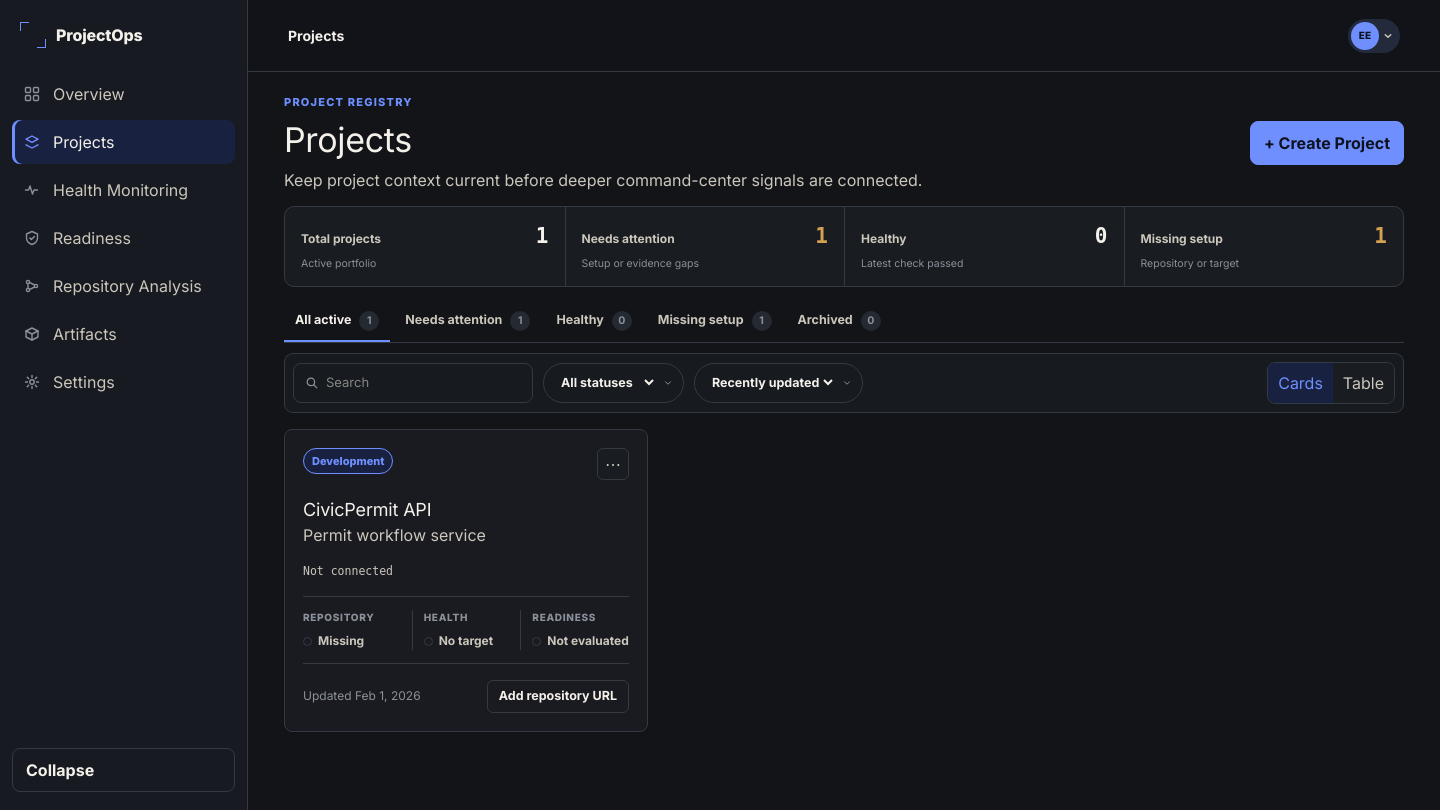
characterization: routes and flows › Projects list renders cards and supports the table view
The image size is (1440, 810).
Expected: the link "CivicPermit API" is shown, [303,499,431,520]
Click the button "Table": (1363, 383) [1333,363,1394,403]
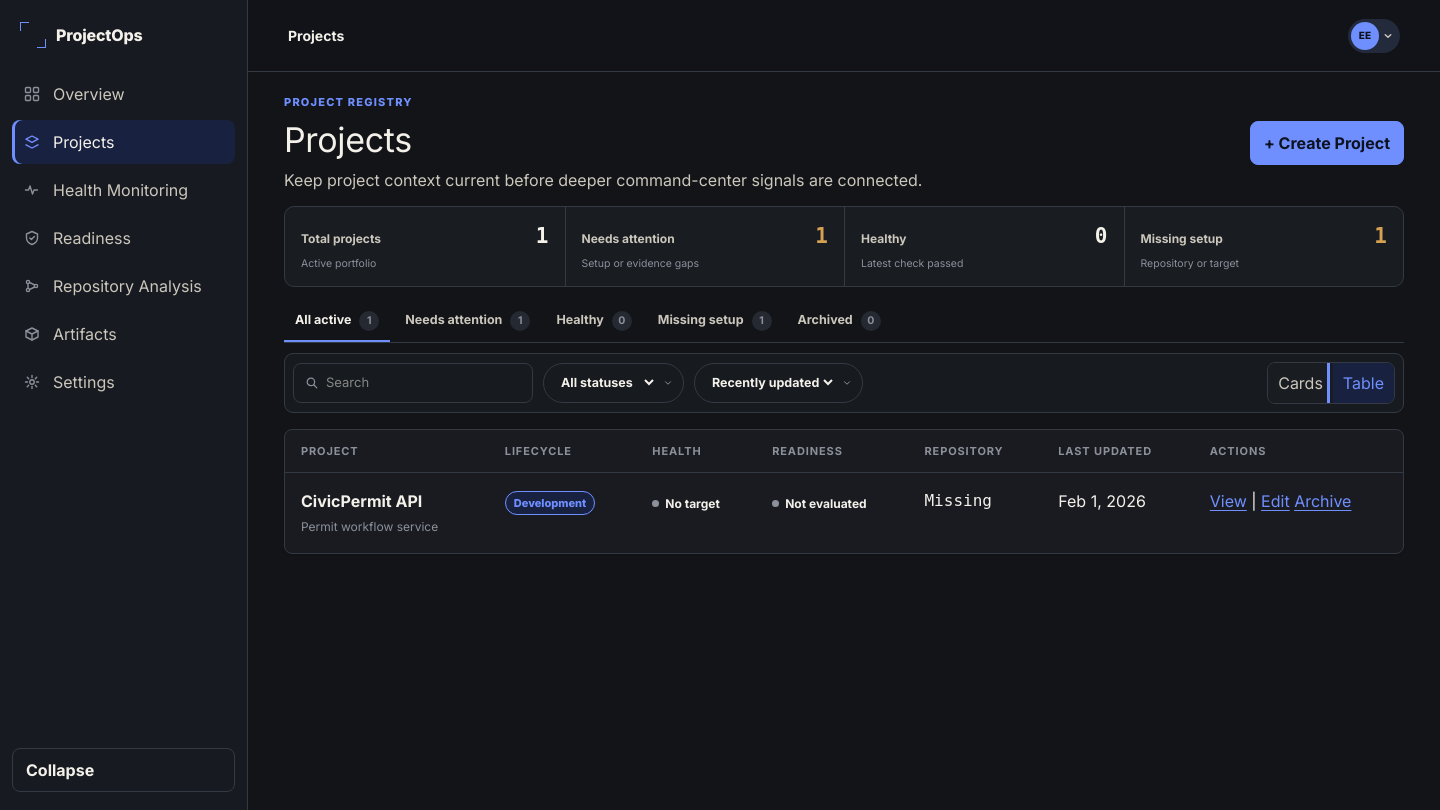
Expected: the table is shown, [285,430,1403,553]
